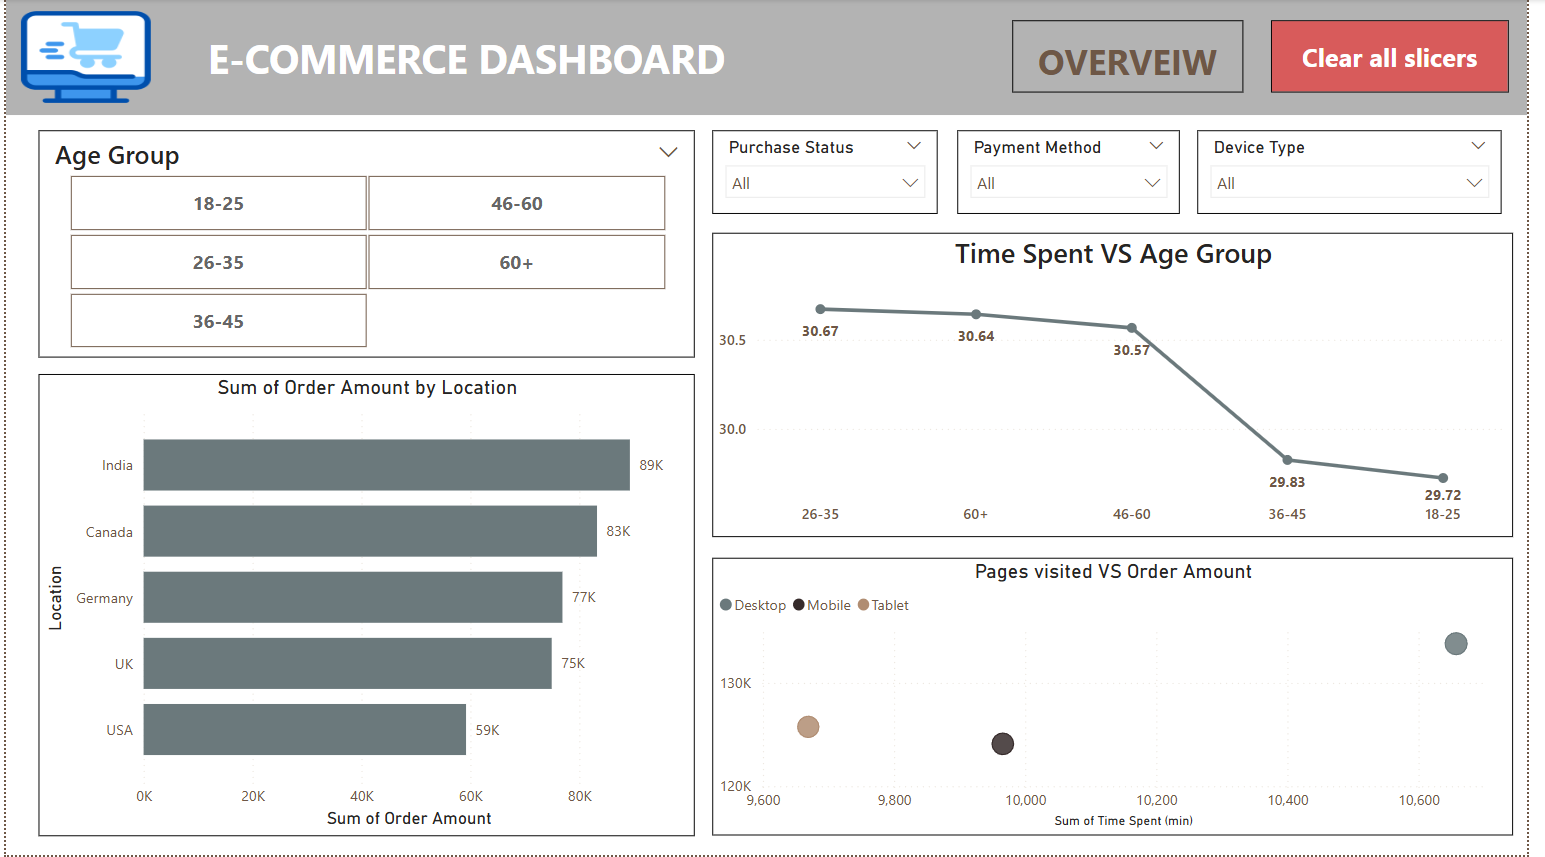

The dashboard page shown, as its layout file describes it:
{"tool":"powerbi","page":{"name":"Analysis","canvas":[1280,720],"ordinal":1},"visuals":[{"type":"clusteredBarChart","fields":{"Category":["Master Table.Location"],"Y":["Sum(Master Table.Order Amount)"]},"box":[27.6,314.9,551.7,388.5],"z":0},{"type":"slicer","fields":{"Values":["Master Table.Age Group"]},"box":[27.6,110.3,551.7,190.8],"z":1000},{"type":"slicer","fields":{"Values":["Master Table.Device Type"]},"box":[1002.3,110.3,256.3,70.1],"z":2000},{"type":"slicer","fields":{"Values":["Master Table.Purchase Status"]},"box":[594.3,110.3,189.7,70.1],"z":3000},{"type":"lineChart","title":"Time Spent VS Age Group","fields":{"Category":["Master Table.Age Group"],"Y":["Avg(Master Table.Time Spent (min))"]},"box":[594.3,196.6,673.6,256.3],"z":4000},{"type":"scatterChart","title":"Pages visited VS Order Amount ","fields":{"Y":["Sum(Master Table.Order Amount)"],"Series":["Master Table.Device Type"],"Size":["Sum(Master Table.Pages Visited)"],"X":["Sum(Master Table.Time Spent (min))"]},"box":[594.3,470.1,673.6,233.3],"z":5000},{"type":"shape","box":[0,0,1280.5,97.7],"z":6000},{"type":"shape","box":[149.4,0,475.9,97.7],"z":7000},{"type":"slicer","fields":{"Values":["Master Table.Payment Method"]},"box":[800,110.3,187.4,70.1],"z":8000},{"type":"image","box":[0,0,134.5,97.7],"z":9000},{"type":"actionButton","box":[846,18.4,194.3,60.9],"z":10000},{"type":"actionButton","box":[1064.4,18.4,200,60.9],"z":10001}]}

Visuals, with their boxes in screenshot pixels (x1, y1, x2, y2), scaled from the page's 1280x720 canvas onto the 1545x857 screenshot:
clusteredBarChart - Master Table.Location x Sum(Master Table.Order Amount): detection(33, 375, 699, 837)
slicer - Master Table.Age Group: detection(33, 131, 699, 358)
slicer - Master Table.Device Type: detection(1210, 131, 1519, 215)
slicer - Master Table.Purchase Status: detection(717, 131, 946, 215)
"Time Spent VS Age Group" lineChart: detection(717, 234, 1530, 539)
"Pages visited VS Order Amount " scatterChart: detection(717, 560, 1530, 837)
shape: detection(0, 0, 1544, 116)
shape: detection(180, 0, 755, 116)
slicer - Master Table.Payment Method: detection(966, 131, 1192, 215)
image: detection(0, 0, 162, 116)
actionButton: detection(1021, 22, 1256, 94)
actionButton: detection(1285, 22, 1526, 94)
